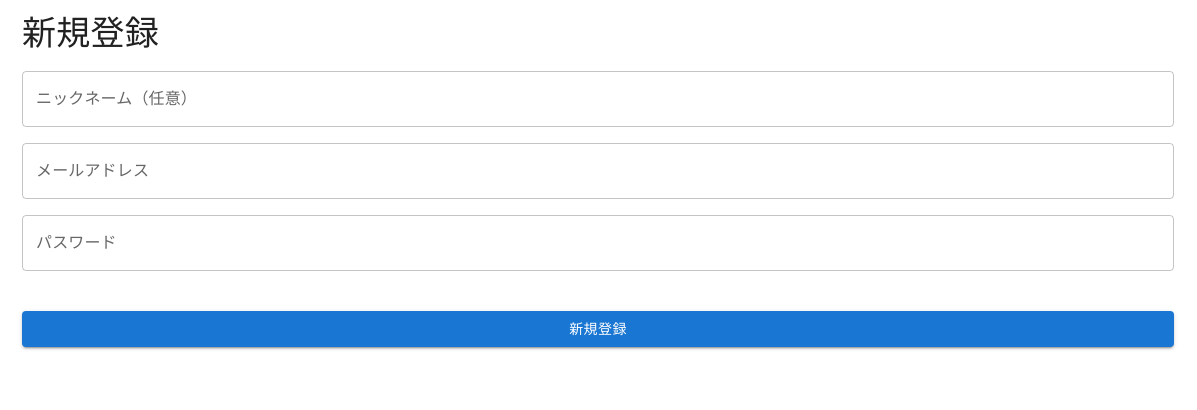
Scenario: Register › 登録失敗時、エラーメッセージを表示する
Type "test@example.com" into the field labelled "メールアドレス".
click(598, 171); type("test@example.com")  # box [22,143,1174,199]
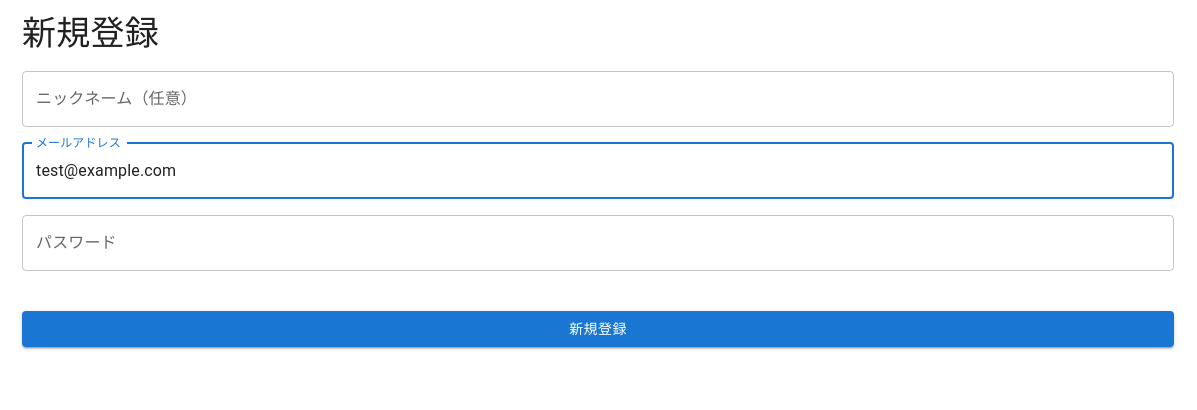
Type "password123" into the password field labelled "パスワード".
click(598, 243); type("password123")  # box [22,215,1174,271]
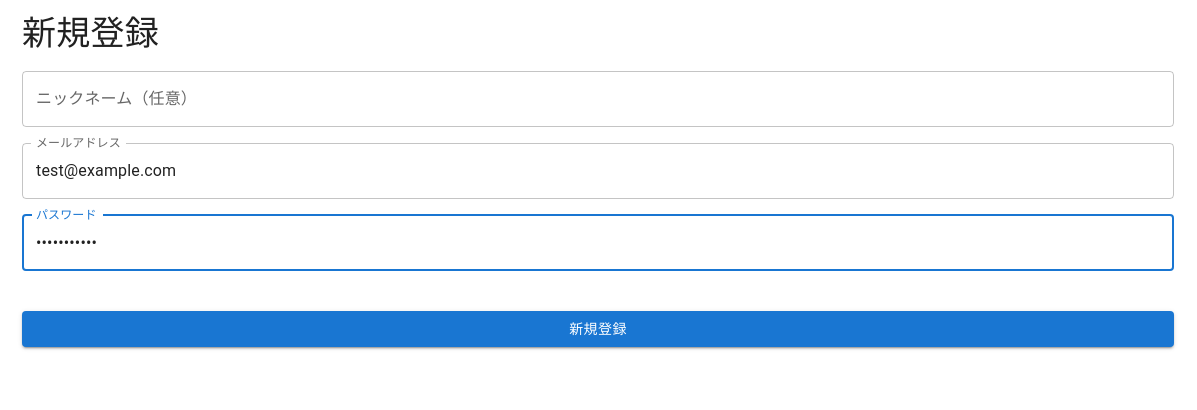
Click the button "新規登録".
click(598, 329)  # box [22,311,1174,348]
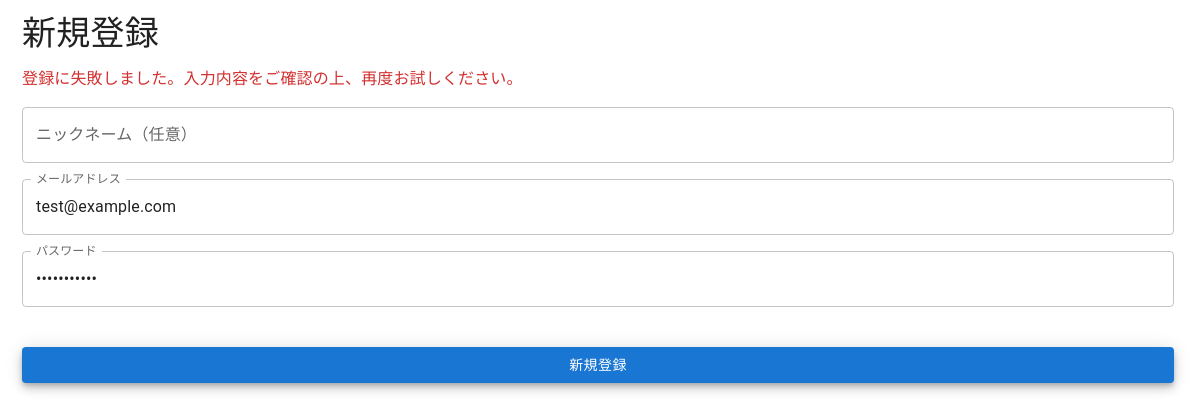
Expected: the text "登録に失敗しました。入力内容をご確認の上、再度お試しください。" is shown, [22,69,523,88]
